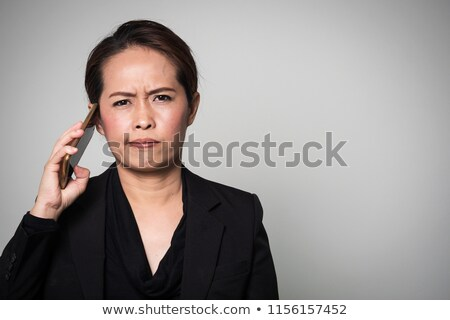phone: (51, 103, 114, 194)
talk: (33, 86, 181, 206)
